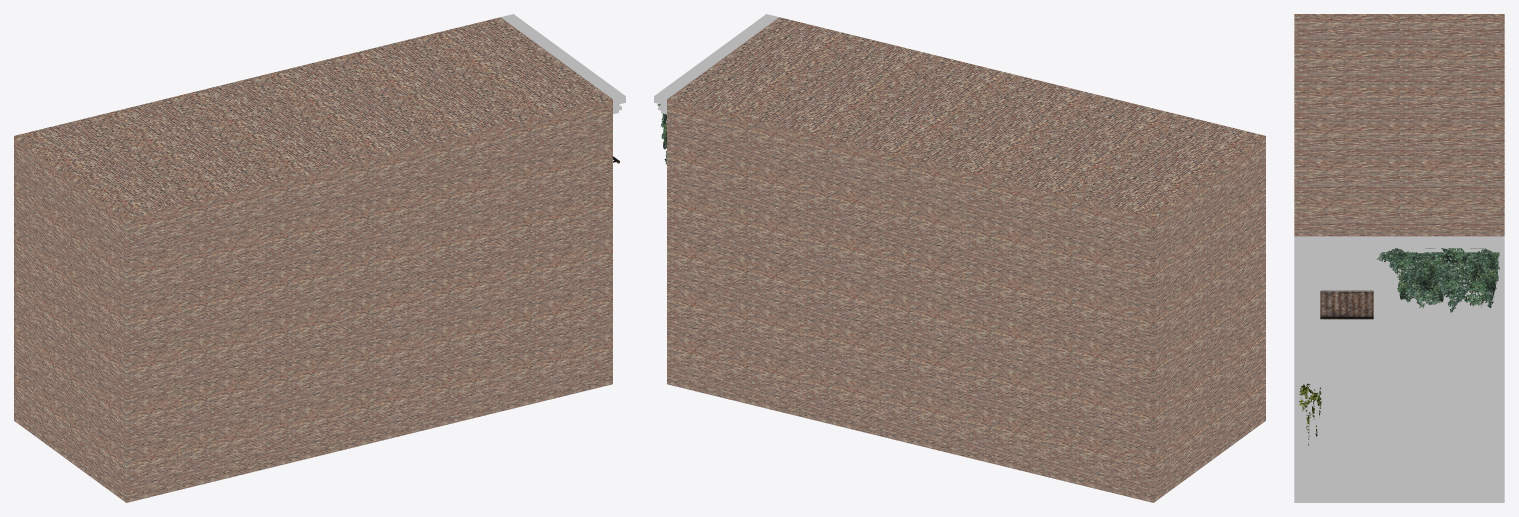
Rendered from House2.fbx.
3 views of the same model, side by side, from view 1: azimuth 30°, elevation 25°; view 2: azimuth 150°, elevation 25°; view 3: azimuth 270°, elevation 25° (orthographic). The views are drawn at different scales.
Visible parts, largest first — view 1: house2; view 2: house2; view 3: house2.
Boxes of the visible parts, x1,y1,x2,y2 form: house2: (14, 14, 625, 502); house2: (654, 14, 1265, 502); house2: (1294, 14, 1504, 502).
Size of the model in its own units: 1597 by 856 by 612.
